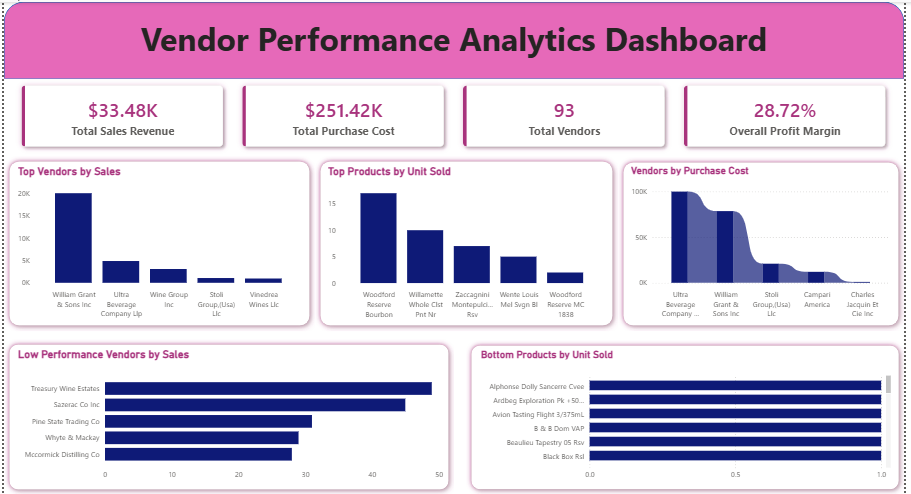

This screenshot's page, from the dashboard's own definition file:
{"tool":"powerbi","page":{"name":"Page 1","canvas":[1500,820],"ordinal":0},"visuals":[{"type":"cardVisual","fields":{"Data":["sales.Total Sales Revenue","purchases.Total Purchase Cost","DimVendor.Total Vendors","vendor_sales_summary.Overall Profit Margin"]},"box":[0,110,1500,160],"z":0},{"type":"shape","box":[0,0,1500,128.3],"z":1000},{"type":"textbox","box":[0,18.3,1500,91.7],"z":2000},{"type":"shape","box":[0,256.7,518.3,291.7],"z":3000},{"type":"clusteredColumnChart","title":"Top Vendors by Sales ","fields":{"Category":["DimVendor.VendorName"],"Y":["sales.Total Sales Revenue"]},"box":[18.3,271.7,483.3,263.3],"z":4000},{"type":"shape","box":[1023.3,258.3,476.7,290],"z":5000},{"type":"shape","box":[0,561,750,259.8],"z":6000},{"type":"ribbonChart","title":"Vendors by Purchase Cost ","fields":{"Category":["DimVendor.VendorName"],"Y":["purchases.Total Purchase Cost"]},"box":[1040,270,441.7,265],"z":7000},{"type":"clusteredBarChart","title":"Low Performance Vendors by Sales ","fields":{"Category":["DimVendor.VendorName"],"Y":["sales.Total Sales Revenue"]},"box":[17.7,576.8,718.5,228.3],"z":8000},{"type":"shape","box":[518.3,256.7,505,291.7],"z":9000},{"type":"clusteredColumnChart","title":"Top Products by Unit Sold","fields":{"Category":["sales.Description"],"Y":["Sum(sales.SalesQuantity)"]},"box":[535.4,271.7,468.5,263.8],"z":10000},{"type":"shape","box":[769.7,563,730.3,257.9],"z":10001},{"type":"clusteredBarChart","title":"Bottom Products by Unit Sold","fields":{"Category":["sales.Description"],"Y":["Sum(sales.SalesQuantity)"]},"box":[789.4,576.8,692.9,228.3],"z":10002}]}

Visuals, with their boxes in screenshot pixels (x1, y1, x2, y2), scaled from the page's 1500x820 canvas onto the 911x494 screenshot:
cardVisual - sales.Total Sales Revenue x purchases.Total Purchase Cost: 0/66/910/163
shape: 0/0/910/77
textbox: 0/11/910/66
shape: 0/155/315/330
"Top Vendors by Sales " clusteredColumnChart: 11/164/305/322
shape: 621/156/910/330
shape: 0/338/455/493
"Vendors by Purchase Cost " ribbonChart: 632/163/900/322
"Low Performance Vendors by Sales " clusteredBarChart: 11/347/447/485
shape: 315/155/621/330
"Top Products by Unit Sold" clusteredColumnChart: 325/164/610/323
shape: 467/339/910/493
"Bottom Products by Unit Sold" clusteredBarChart: 479/347/900/485
